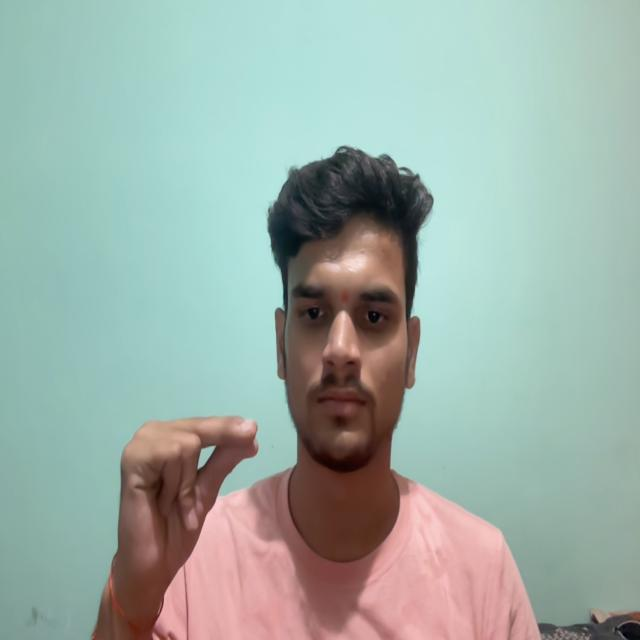No: (90, 346, 278, 640)
